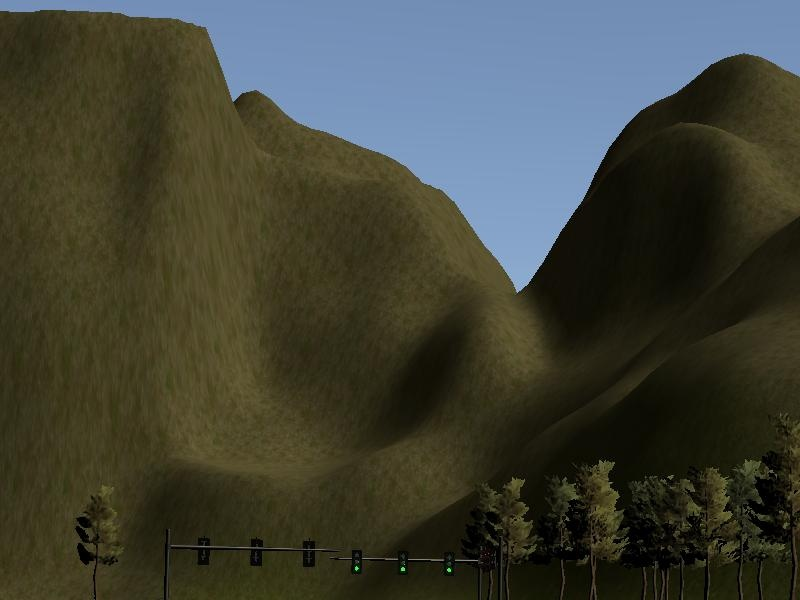green: (345, 544, 363, 578), (395, 547, 409, 581), (442, 550, 454, 578)
